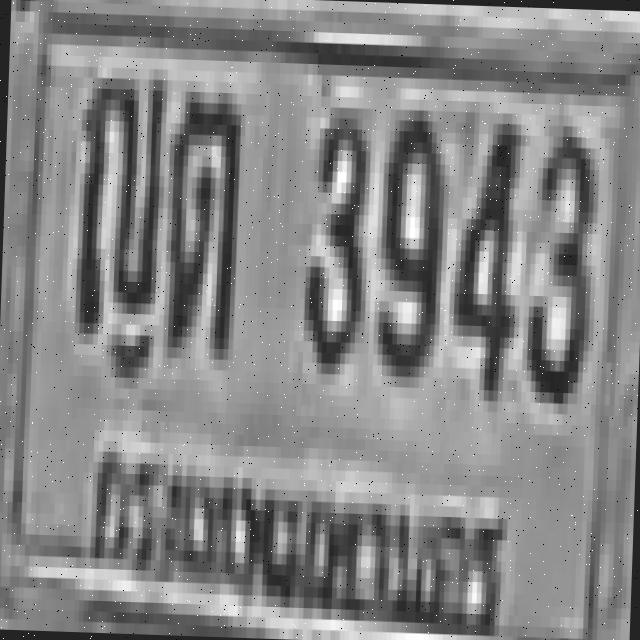22YorYing: (70, 67, 162, 336)
3: (521, 114, 591, 393), (298, 96, 368, 364)
30TorTao: (162, 80, 237, 348)
4: (446, 112, 516, 390)
9: (372, 98, 442, 366)
Bangkok: (75, 413, 524, 640)
